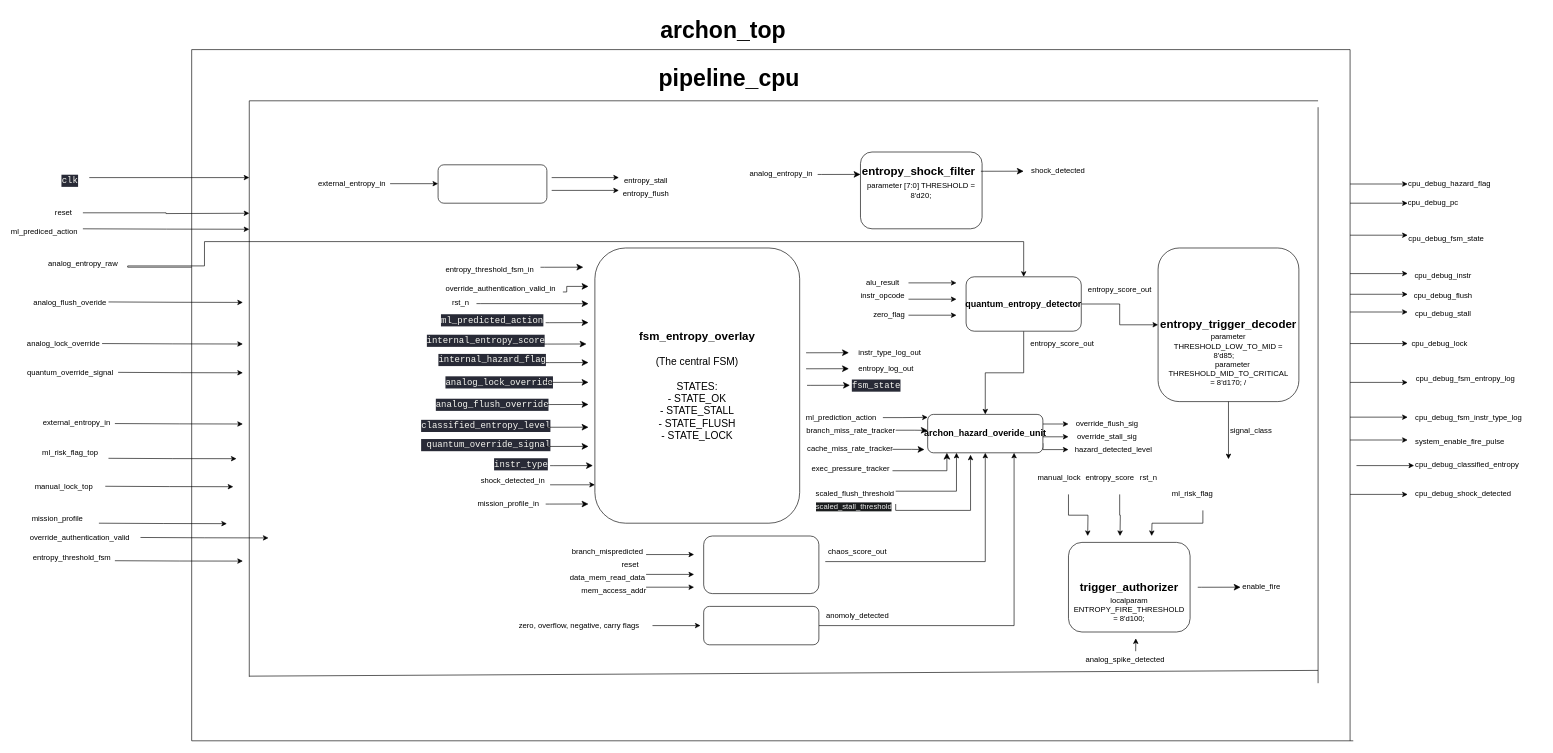
This 1553x753 diagram has some shape labels left out. Each missing label, with the centre of its shape:
"chaos_detector" goes at (x=761, y=564).
"entropy_control_logic" goes at (x=492, y=183).
"pattern_detector" goes at (x=761, y=625).
